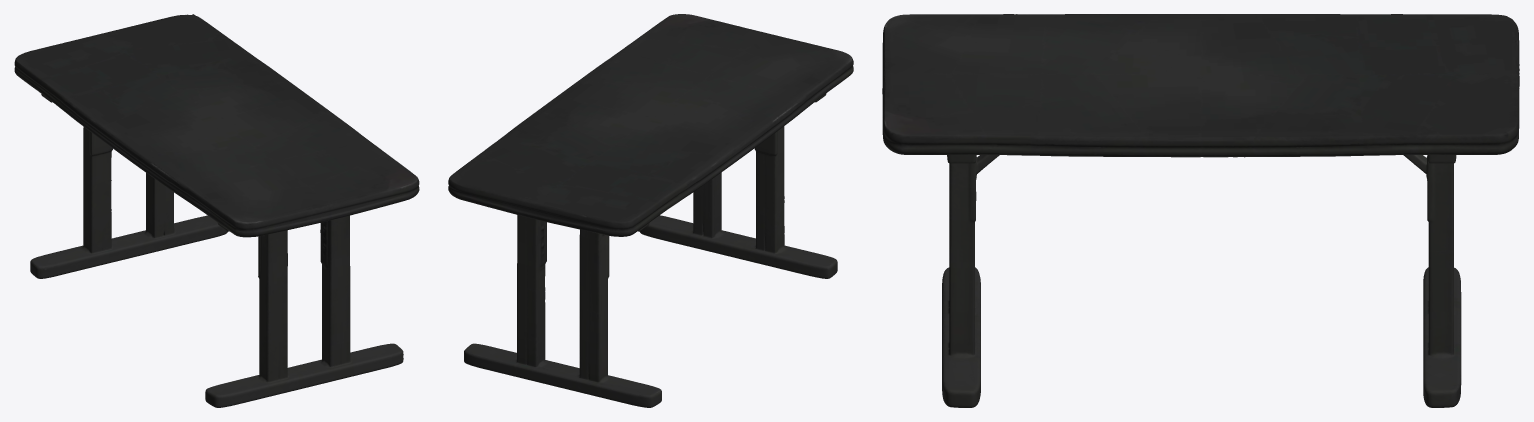
The model's file is desk.glb.
3 views of the same model, side by side, from view 1: azimuth 30°, elevation 25°; view 2: azimuth 150°, elevation 25°; view 3: azimuth 270°, elevation 25° (orthographic). The views are drawn at different scales.
Parts seen in each view (by area): view 1: tripo_node_88374909-dfc4-432e-a697-878b874eee27; view 2: tripo_node_88374909-dfc4-432e-a697-878b874eee27; view 3: tripo_node_88374909-dfc4-432e-a697-878b874eee27.
Boxes of the visible parts, x1=… form: tripo_node_88374909-dfc4-432e-a697-878b874eee27: x1=14, y1=14, x2=419, y2=407; tripo_node_88374909-dfc4-432e-a697-878b874eee27: x1=448, y1=14, x2=853, y2=407; tripo_node_88374909-dfc4-432e-a697-878b874eee27: x1=882, y1=14, x2=1519, y2=407.
Bounding box in the file's own units: 0.4716 × 0.4748 × 1.
1 material, 1 textured.
